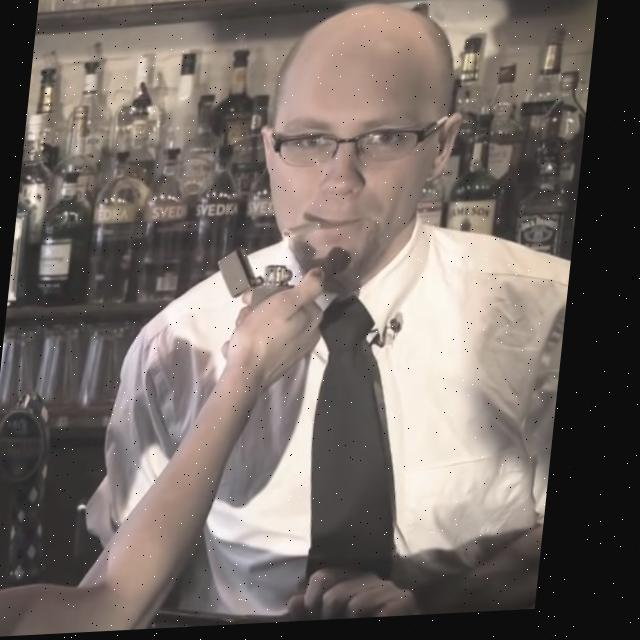cigarette: (286, 224, 328, 243)
